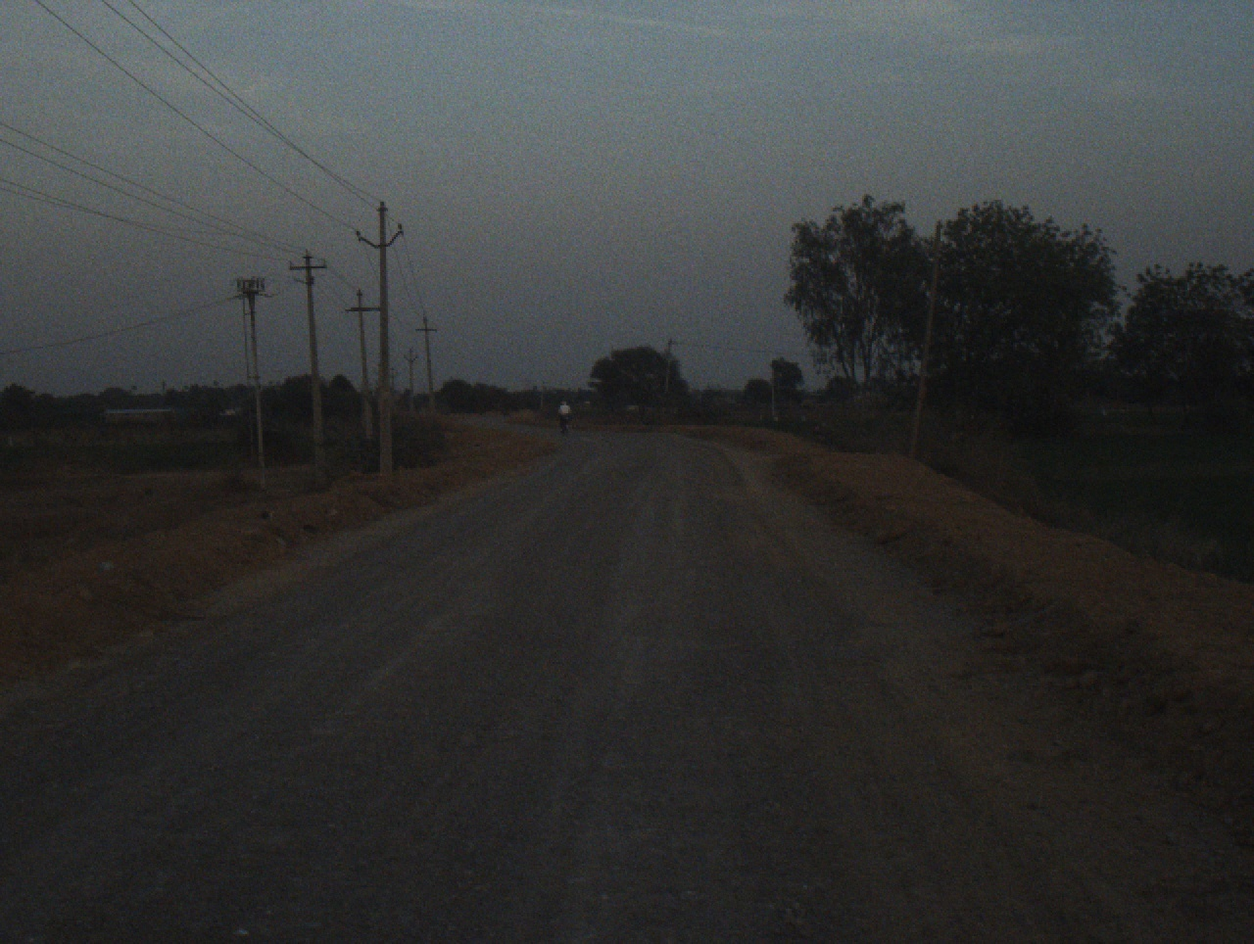bicycle: (561, 415, 570, 440)
rider: (555, 395, 572, 431)
